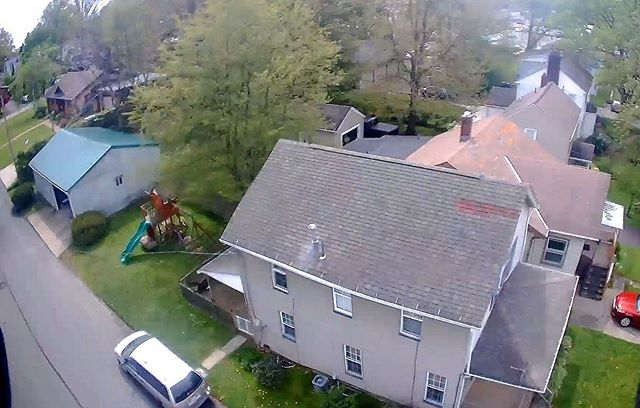building: (220, 144, 563, 408), (434, 120, 602, 279), (13, 114, 163, 222), (509, 81, 581, 162), (38, 65, 97, 119)
car: (109, 326, 215, 408)
tree: (138, 2, 336, 199), (332, 1, 501, 134)
